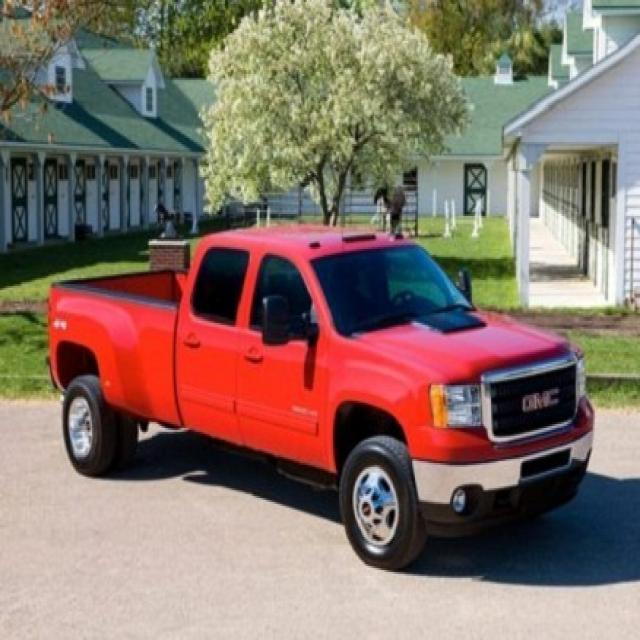Pick-up-van: (21, 195, 614, 591)
